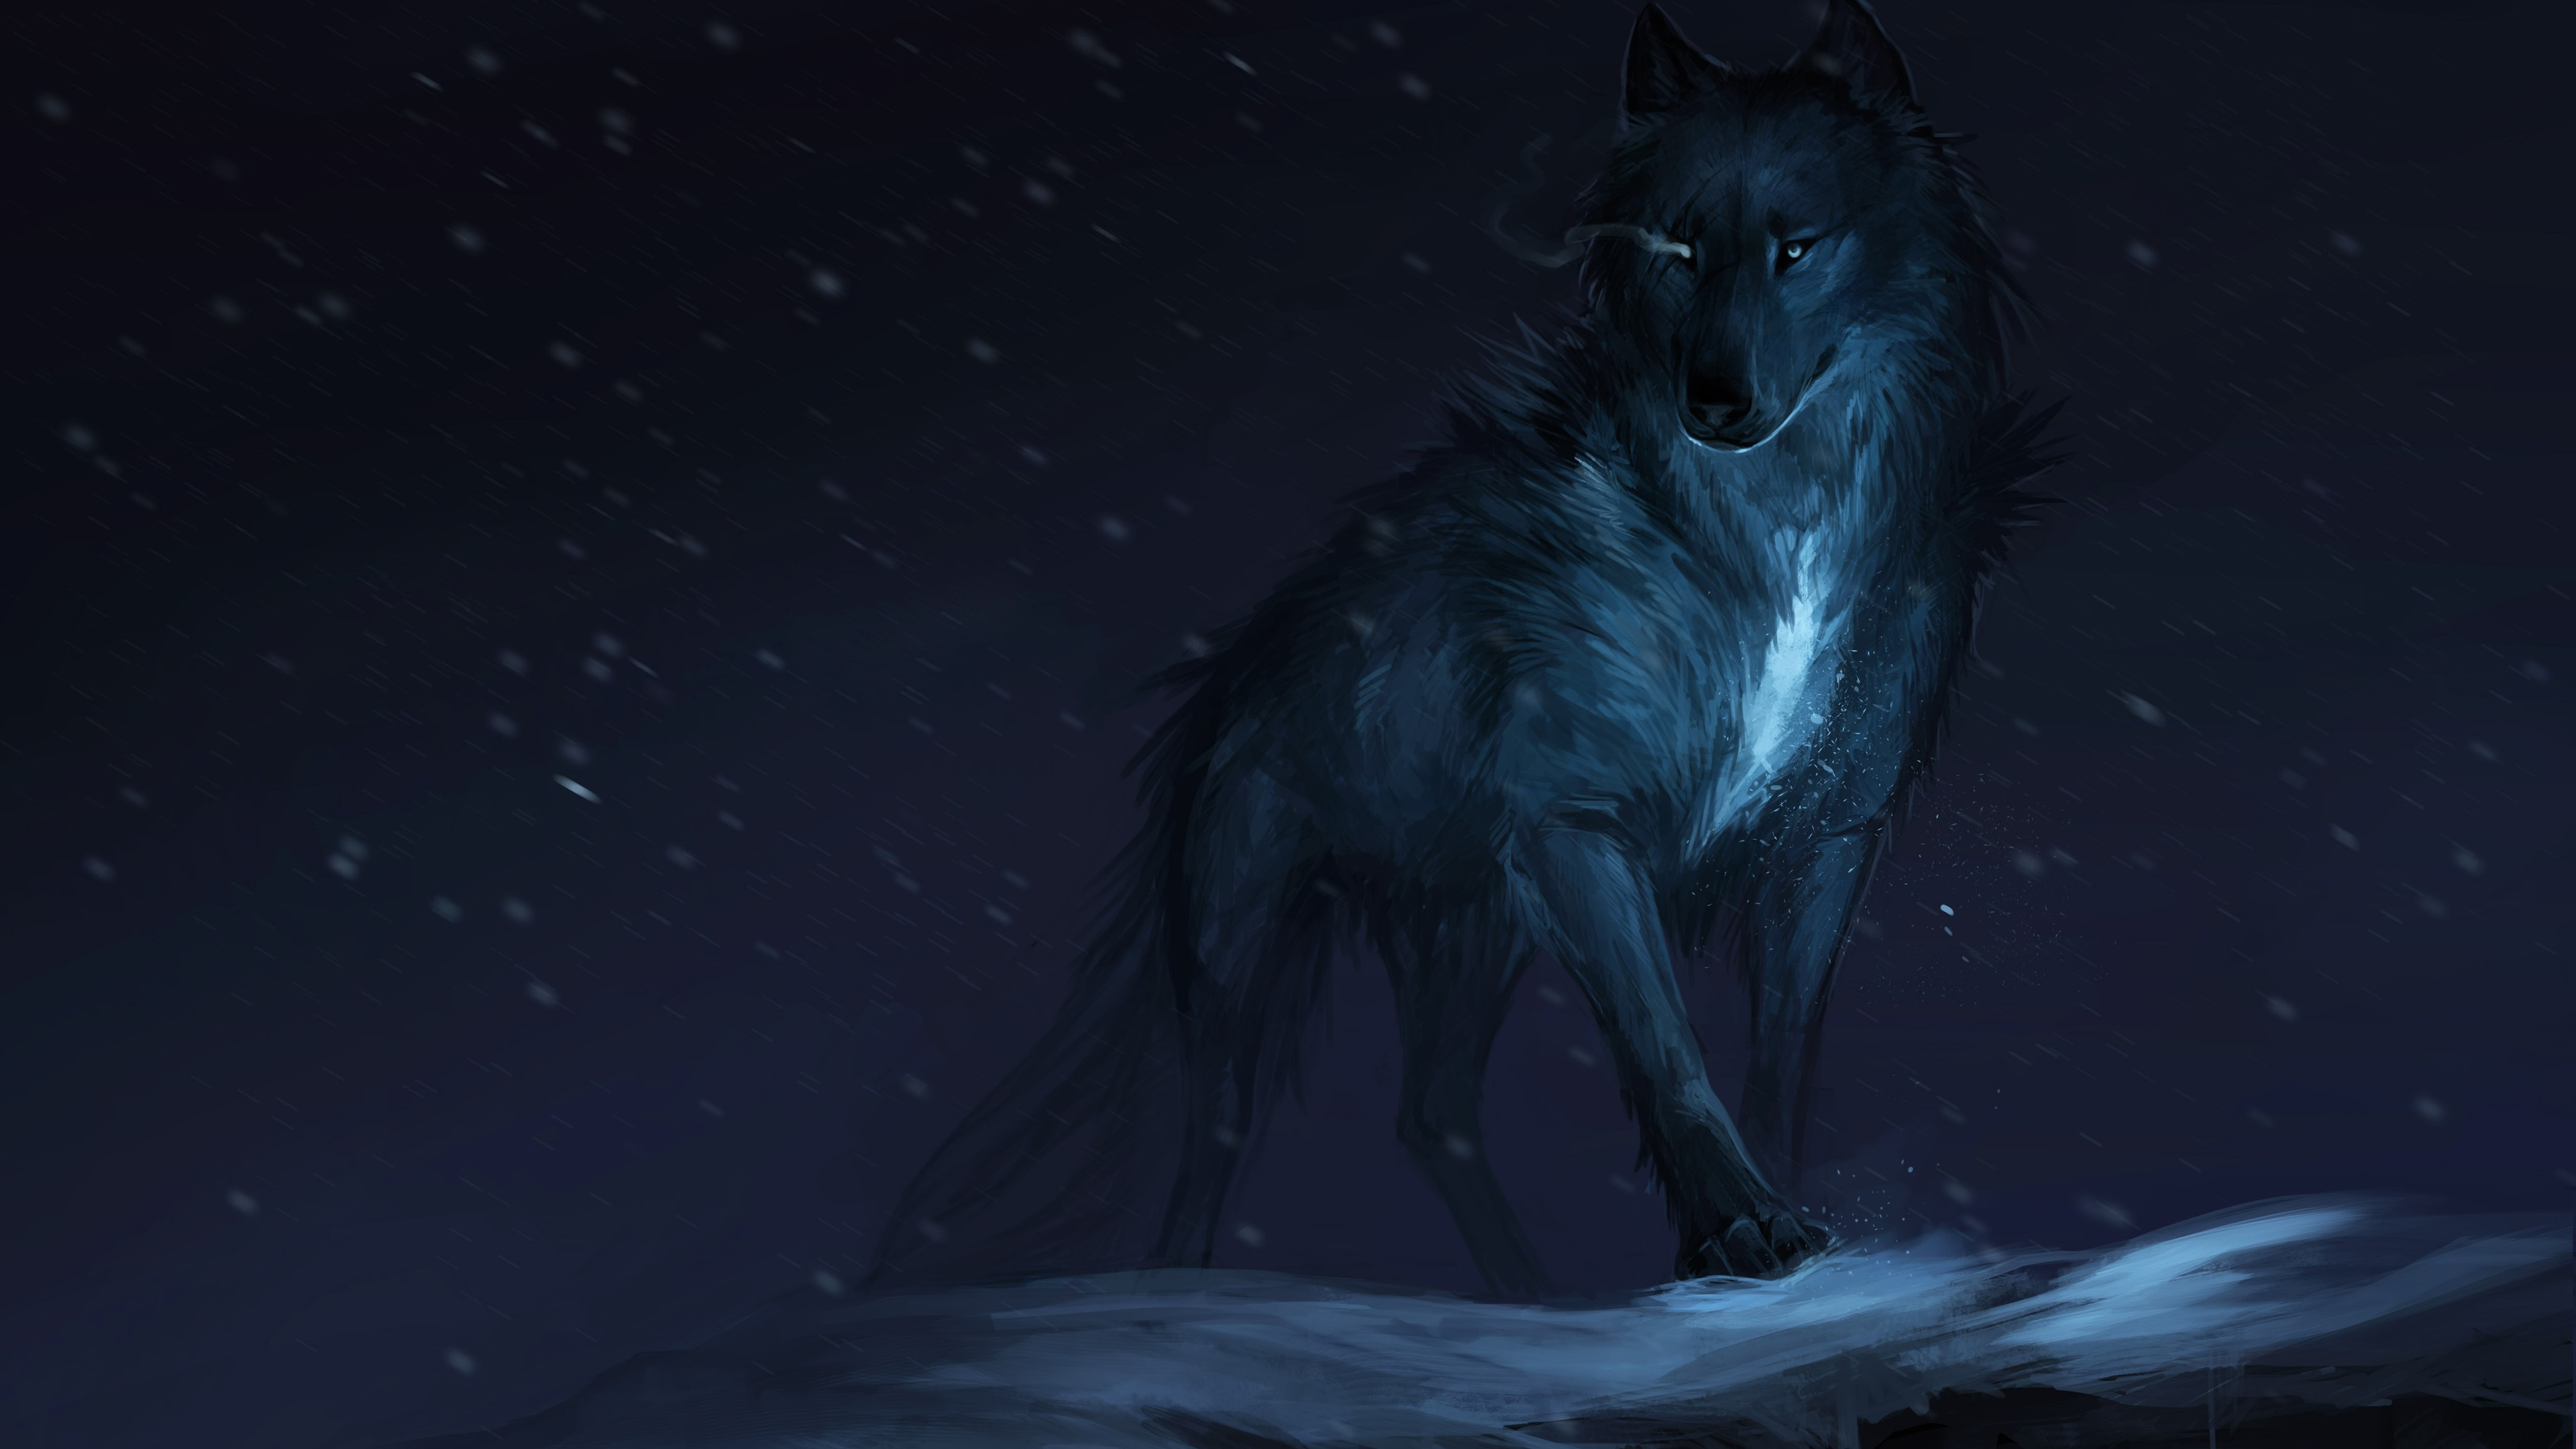Lobo: (920, 34, 2015, 1293)
